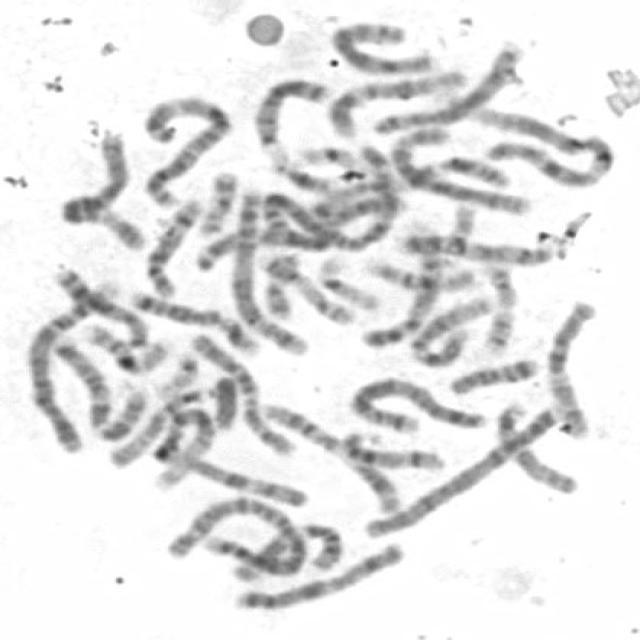A1: (146, 402, 312, 508), (445, 89, 617, 190)
A2: (255, 138, 400, 252), (159, 490, 311, 580)
A3: (190, 191, 412, 270), (134, 89, 236, 210)
B4: (356, 397, 570, 539), (18, 273, 122, 451)
B5: (220, 178, 312, 358), (342, 371, 492, 436)
C10: (182, 325, 299, 459), (538, 294, 602, 440)
C11: (260, 396, 398, 514), (218, 517, 347, 583)
C12: (320, 66, 468, 138), (405, 289, 496, 368)
C6: (386, 125, 534, 216), (52, 124, 147, 254)
C7: (318, 146, 521, 224), (42, 331, 146, 444)
C8: (365, 35, 524, 135), (324, 16, 440, 76)
C9: (356, 217, 444, 351), (396, 228, 559, 268)
D13: (46, 259, 157, 352), (247, 72, 333, 156)
D14: (141, 192, 206, 300), (336, 428, 446, 474)
D15: (100, 379, 216, 472), (490, 397, 582, 496)
E16: (76, 318, 172, 374), (359, 254, 483, 294)
E17: (252, 246, 361, 326), (474, 256, 520, 357)
E18: (442, 351, 542, 397), (124, 286, 226, 328)
F19: (312, 250, 385, 312), (289, 139, 359, 170)
F20: (192, 165, 242, 238), (257, 248, 301, 320)
G21: (211, 309, 263, 358), (268, 156, 334, 194)
G22: (151, 346, 202, 399), (440, 197, 481, 251)
X: (226, 535, 408, 614)
Y: (206, 371, 240, 430)
